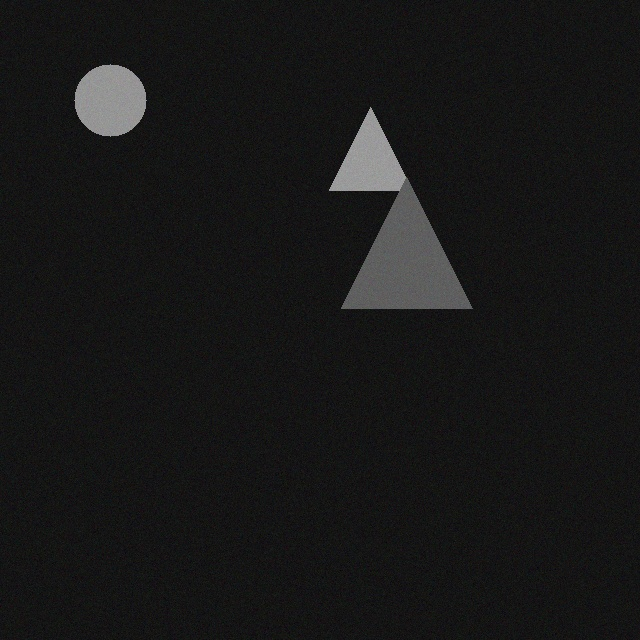circle: (86, 56, 158, 128)
triangle: (353, 169, 484, 300), (341, 99, 424, 182)
